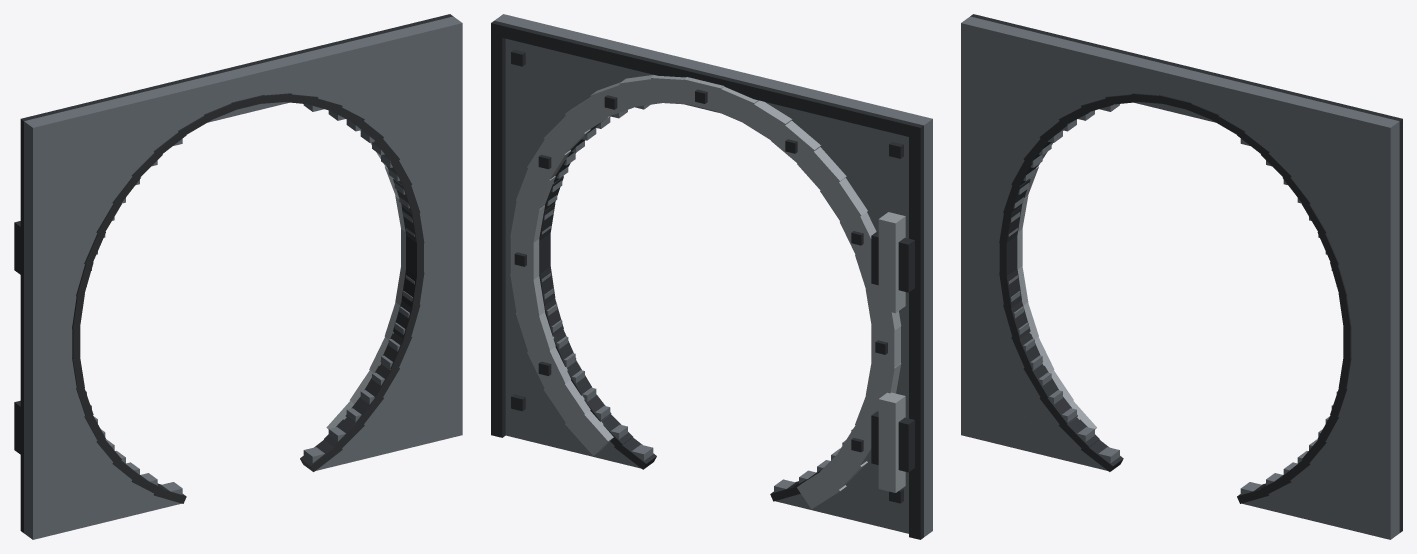
File: vault_frame.glb
3 views of the same model, side by side, from view 1: azimuth 30°, elevation 25°; view 2: azimuth 150°, elevation 25°; view 3: azimuth 330°, elevation 25° (orthographic).
Visible parts, largest first — view 1: vault_frame; view 2: vault_frame; view 3: vault_frame.
Part boxes in pixels (x1,y1,x2,y2): vault_frame: (14,14,462,539); vault_frame: (491,14,932,539); vault_frame: (961,14,1402,539).
Size of the model in its own units: 3 by 2.75 by 0.305.
3 materials, 3 textured.
